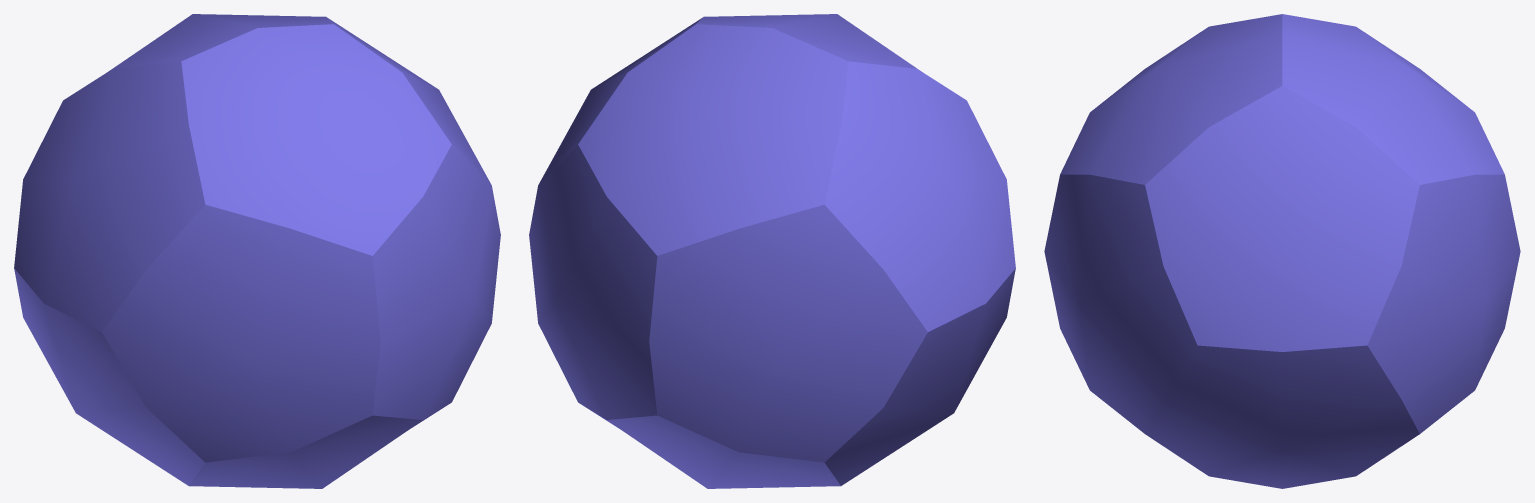
File: Ball.fbx
The picture shows the model from 3 angles, left to right: view 1: azimuth 30°, elevation 25°; view 2: azimuth 150°, elevation 25°; view 3: azimuth 270°, elevation 25°; orthographic projection. The views are drawn at different scales.
Visible parts, largest first — view 1: Ball; view 2: Ball; view 3: Ball.
Part boxes in pixels (<box>): Ball: <box>14,14,500,488</box>; Ball: <box>529,14,1015,488</box>; Ball: <box>1044,14,1520,488</box>.
Size of the model in its own units: 103 by 103 by 103.
